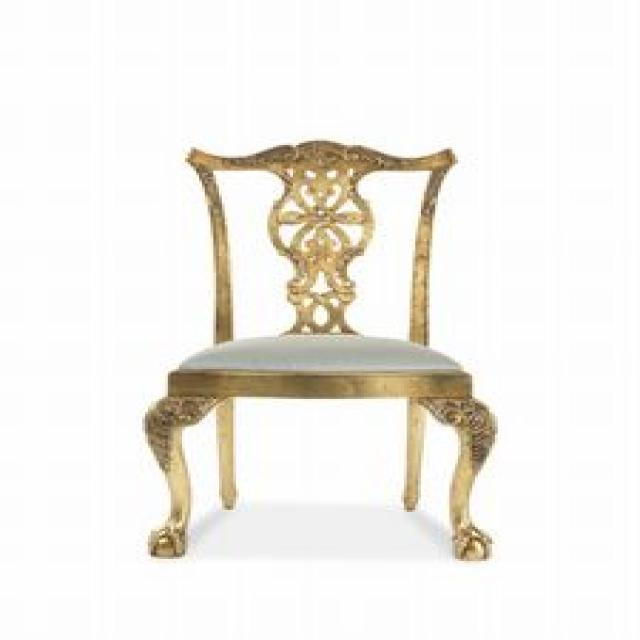chair: (139, 137, 498, 561)
